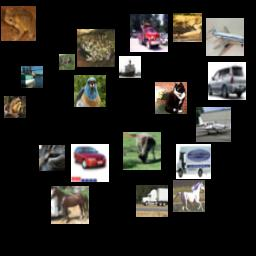airplane: (206, 18, 244, 56), (196, 107, 231, 142)
automobile: (208, 62, 246, 100), (71, 144, 109, 182)
bird: (74, 75, 106, 107)
cat: (155, 82, 187, 114), (39, 145, 65, 171), (59, 54, 75, 70)
deer: (123, 132, 161, 170), (173, 13, 202, 42)
frog: (77, 29, 115, 67), (1, 6, 36, 41), (4, 96, 26, 118)
ship: (119, 56, 141, 78), (21, 66, 43, 88)
truck: (130, 14, 168, 52), (176, 144, 211, 179), (136, 185, 168, 217)
